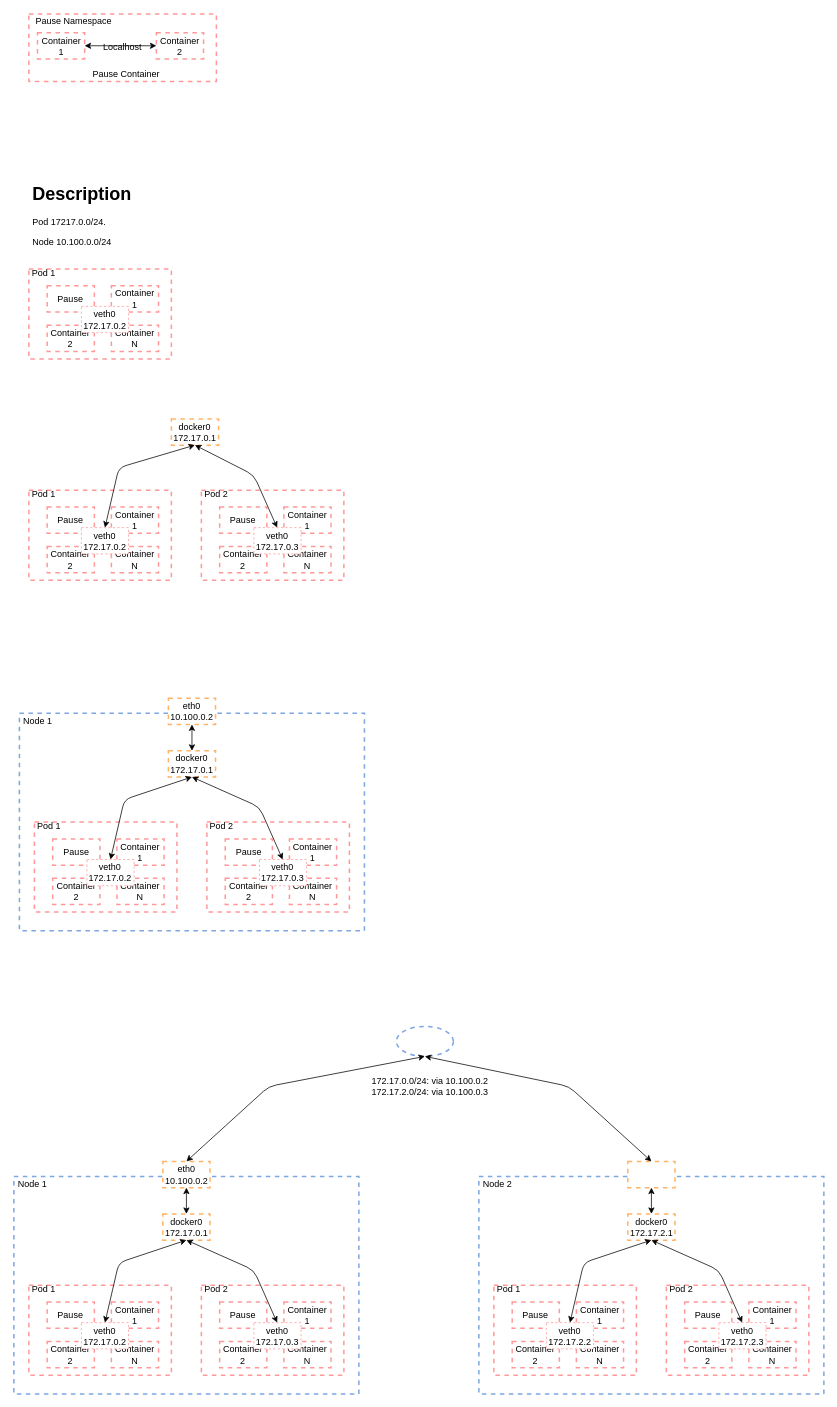
The diagram is 837 pixels wide and 1407 high, and some of its shapes have lost their labels. The centre of each missing label's shape, as x and y in pixels:
"eth0 10.100.0.3" belongs at [651,1174].
"Router 1" belongs at [424,1041].
